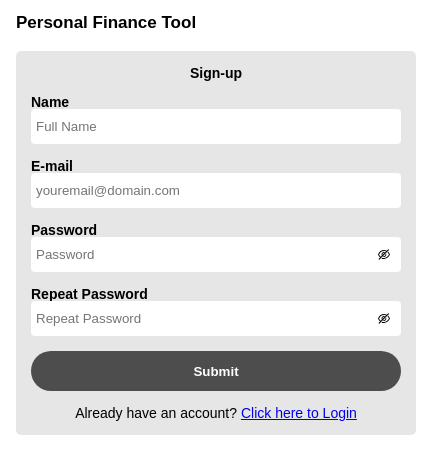
it: Register › Register Form › should show an alert for empty email
Type "Name" into the field with placeholder "Full Name".
click(216, 126); type("Name")  # box [31, 109, 401, 144]
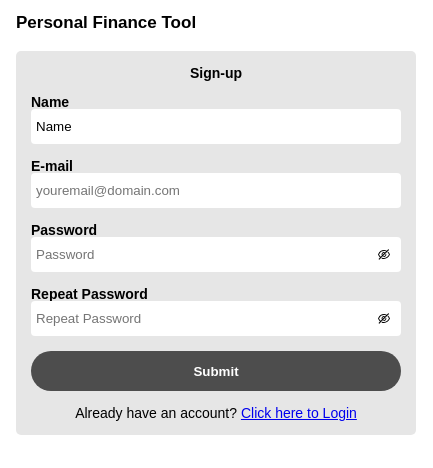
Type "password123" into the password field with placeholder "Password".
click(216, 254); type("password123")  # box [31, 237, 401, 272]
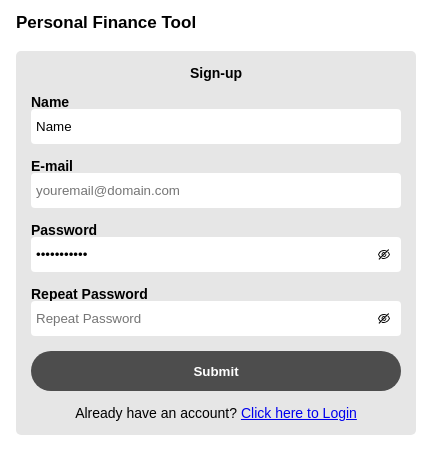
Click the button "Submit".
click(216, 371)  # box [31, 351, 401, 391]
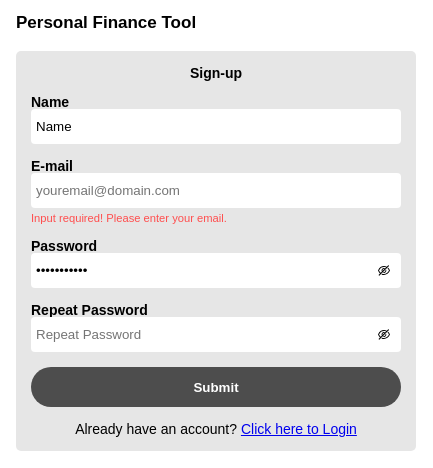
Now the message reads "Input required! Please enter your email.", box [31, 212, 227, 224]
